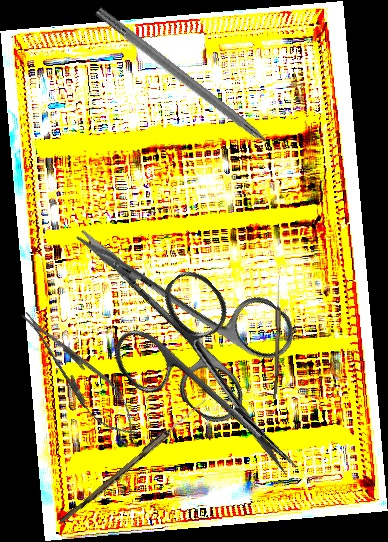Hook Surgical: (93, 5, 290, 165)
Iris Scissors: (39, 178, 305, 432), (98, 262, 342, 512)
Needle Holder: (9, 299, 150, 449)
Surgical Spoon: (59, 396, 208, 527), (273, 274, 282, 400)
